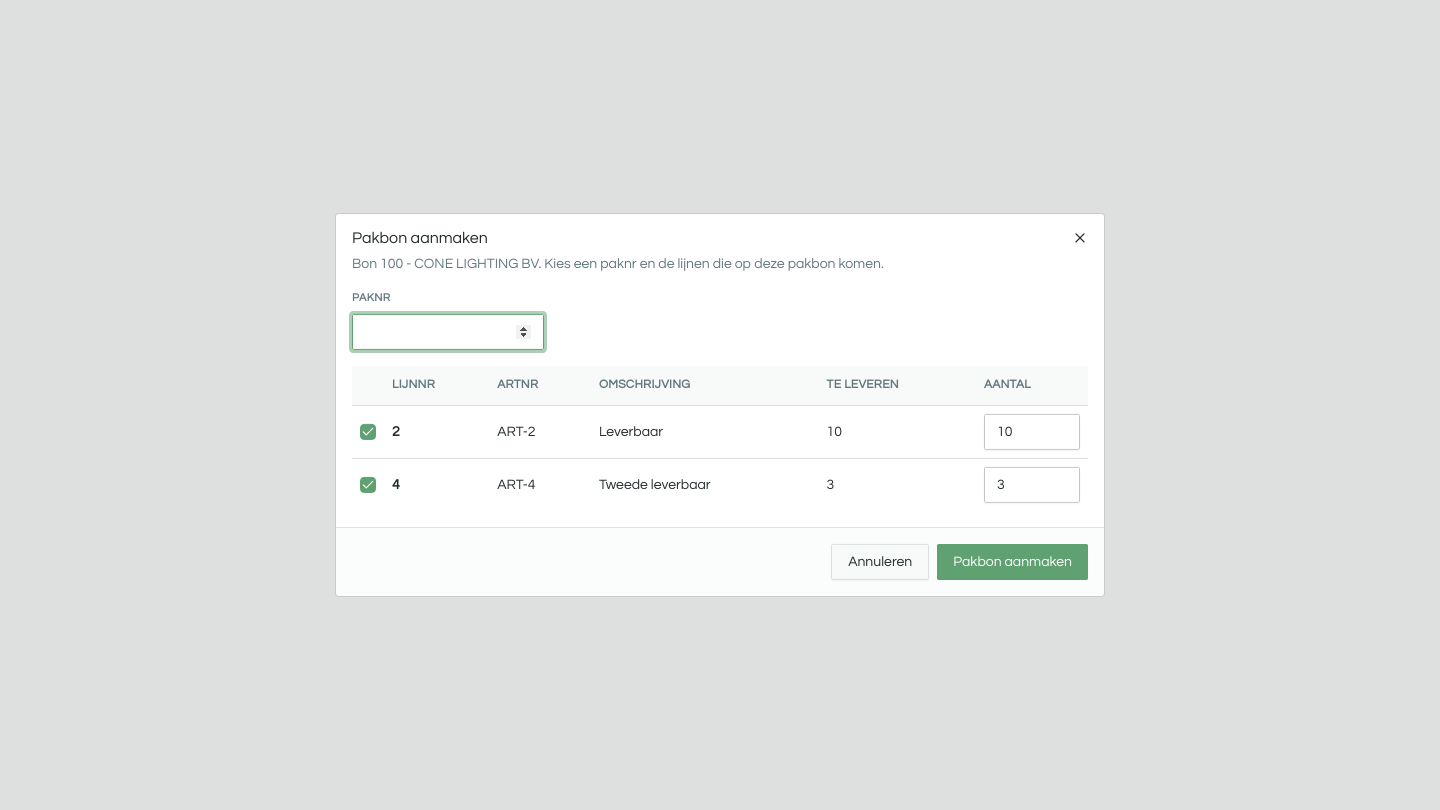
Test case: PakbonAanmakenDialog › reports partial success when a paklijn fails after the head was created
Type "9" into the number field labelled "Paknr" at (448, 332), box [352,314,544,350]
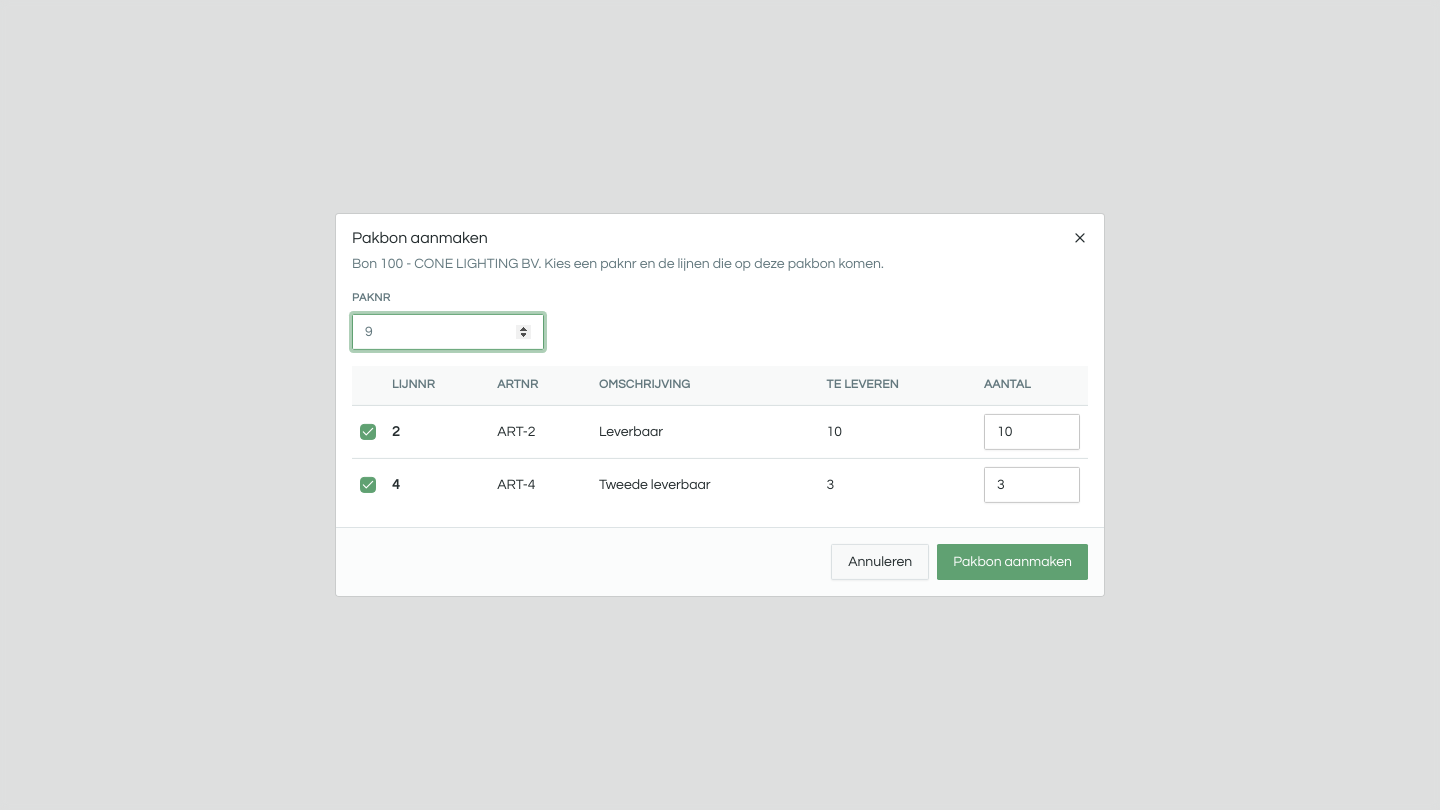
Click the button "Pakbon aanmaken" at (1013, 562), box [937,544,1088,580]
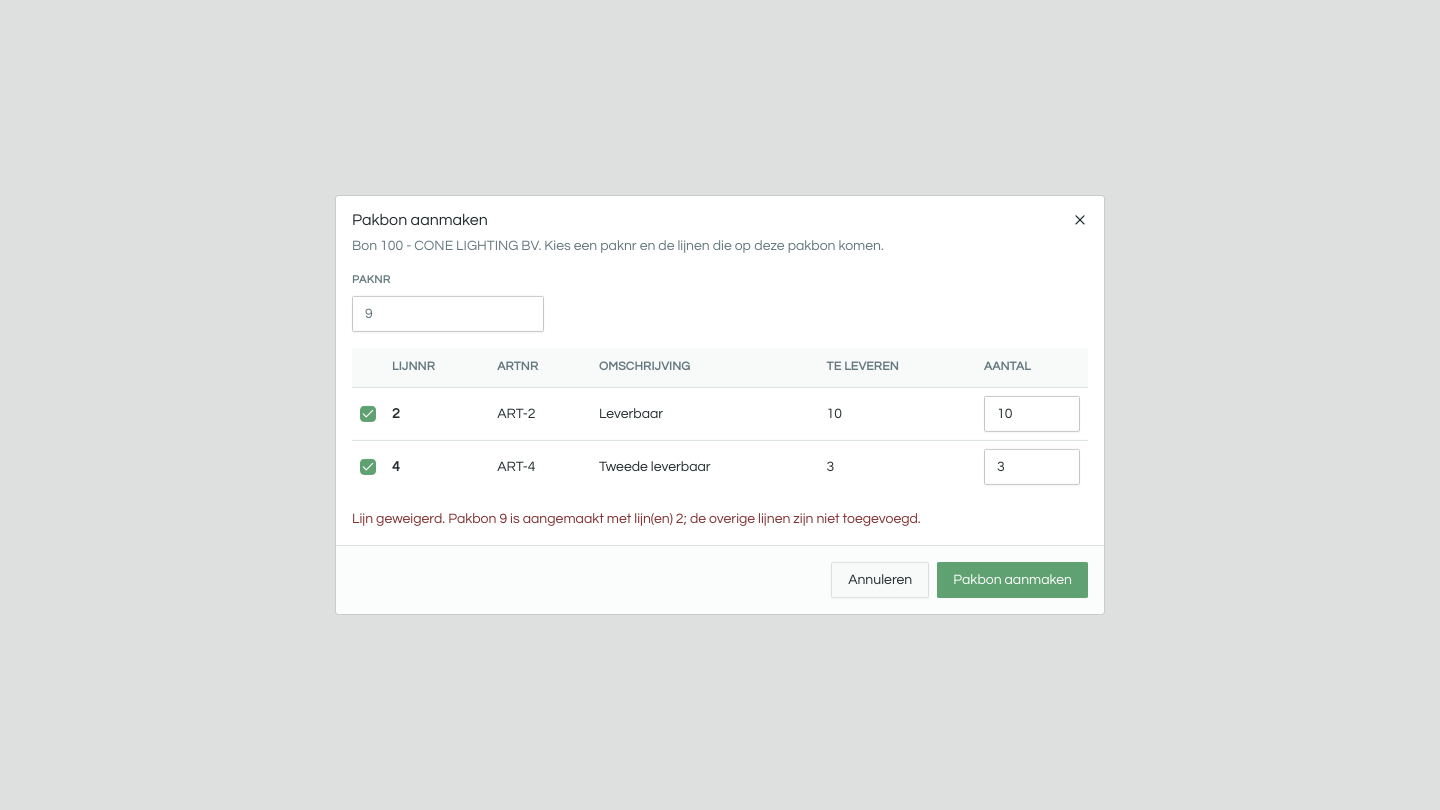
Now the text "Lijn geweigerd. Pakbon 9 is aangemaakt met lijn(en) 2; de overige lijnen zijn niet toegevoegd." is shown, box [352,512,921,526]
